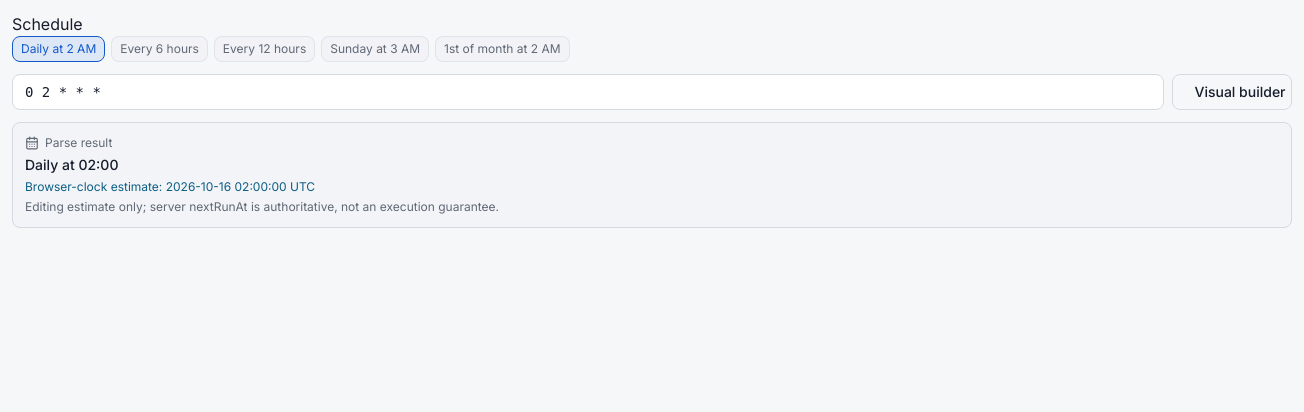
Test: CronGenerator preview › opening builder for 0 2 * * * does not rewrite the schedule
The image size is (1304, 412).
Click the button "Visual builder" at (1232, 92), box [1172,74,1292,110]
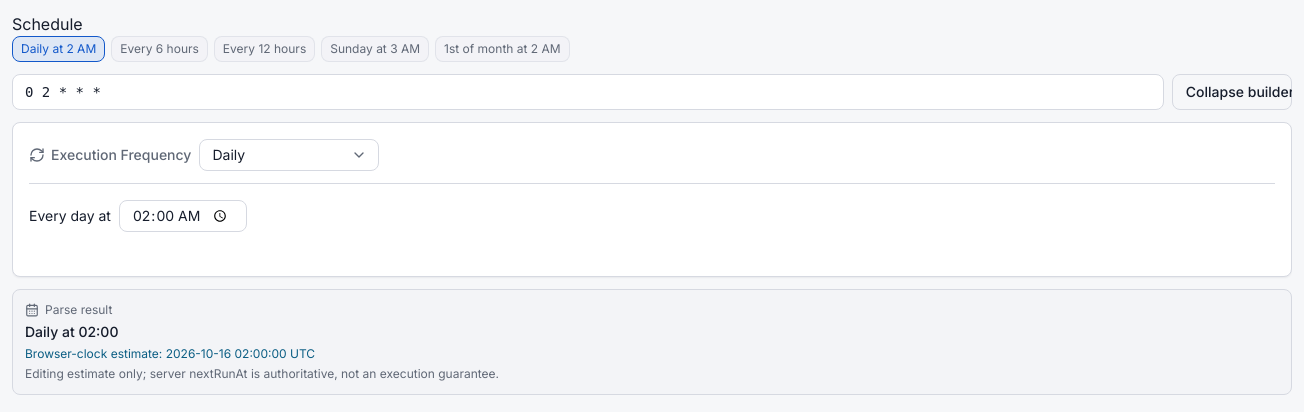
Expected: the field labelled "Schedule" holds "0 2 * * *", [12,74,1164,110]
Expected: the dropdown named "Execution Frequency" shows "Daily", [199,139,379,171]
